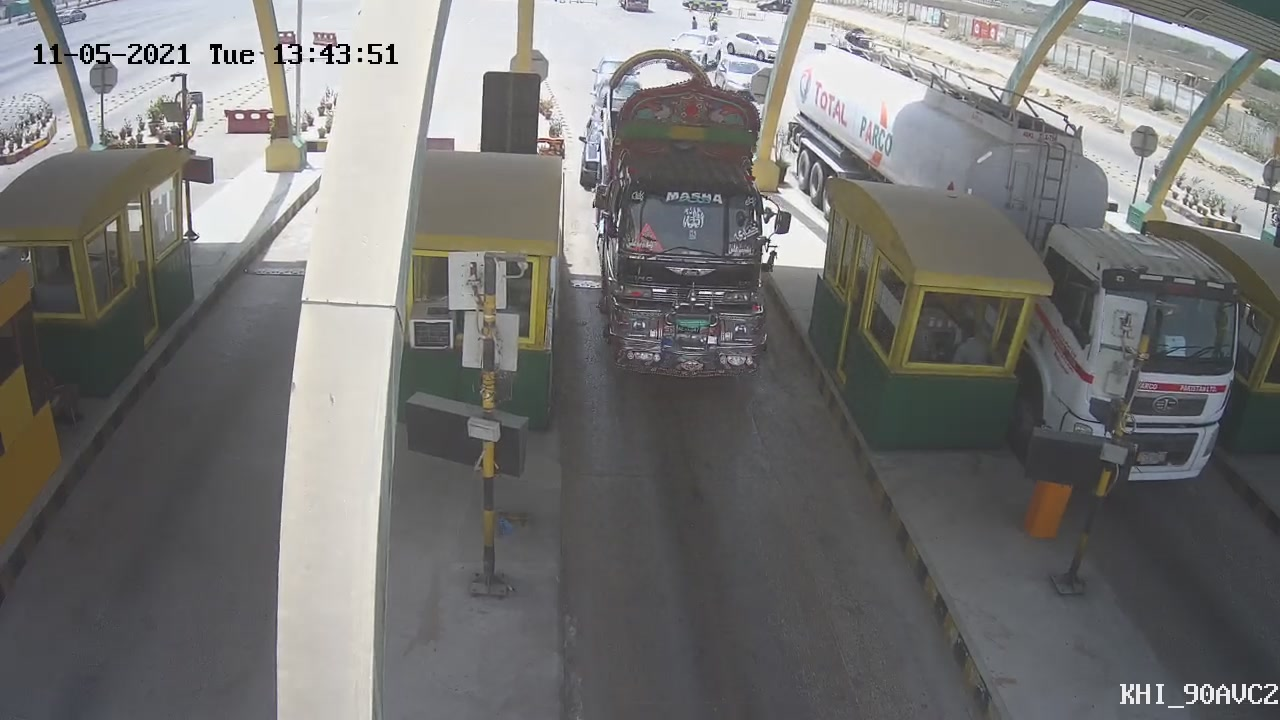F5: (580, 40, 784, 403)
